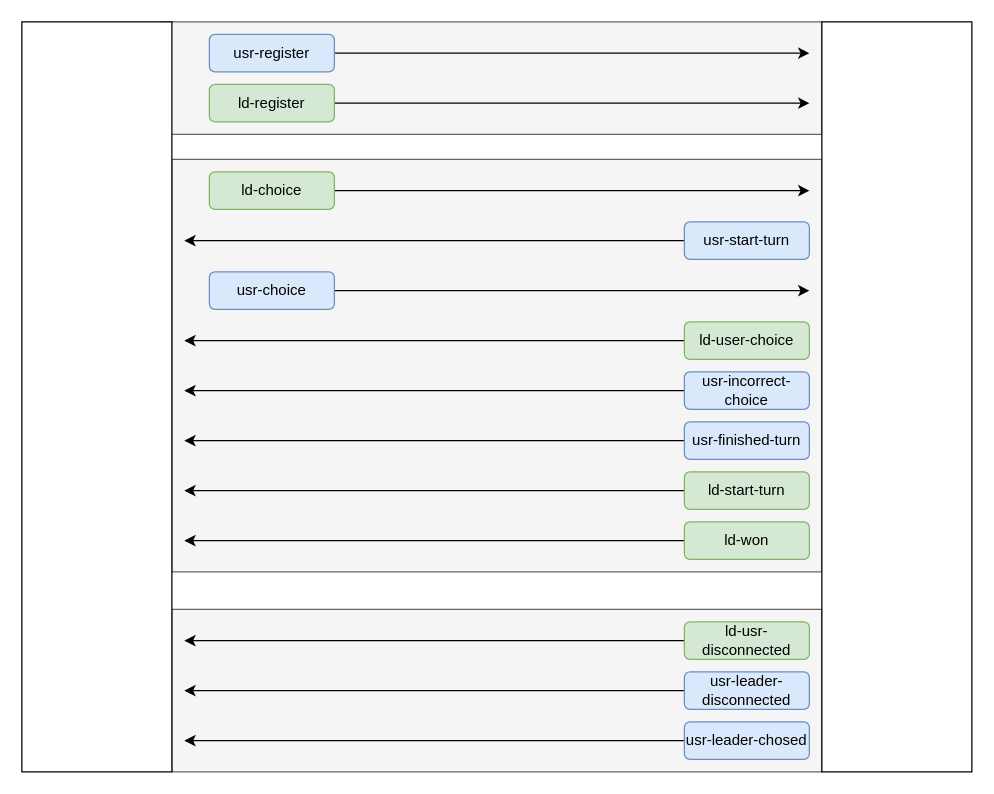
Some shapes in this 994 by 794 pixel diagram are drawn without their labels. The shapes that lost their labels are listed below. From the top down, each one's centre as x and y in pixels, then its label:
point (96, 396): USERS
point (896, 396): SERVER
